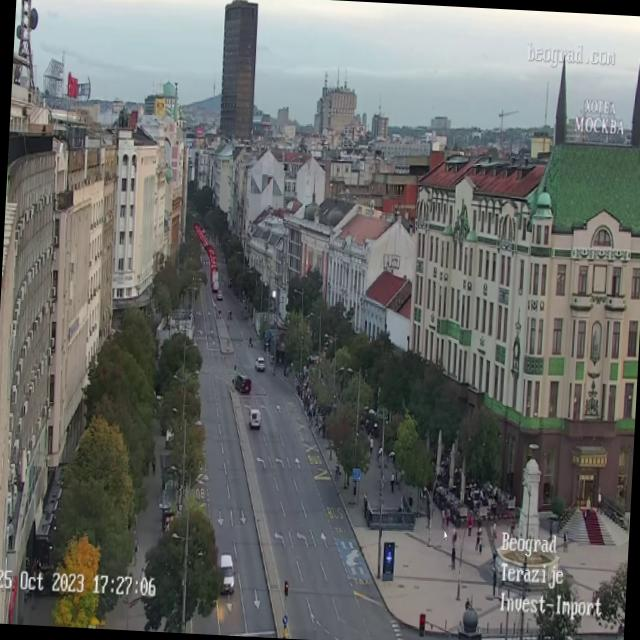car: (218, 552, 236, 596), (233, 372, 253, 396), (248, 408, 261, 429), (254, 356, 266, 372), (211, 278, 219, 293)
